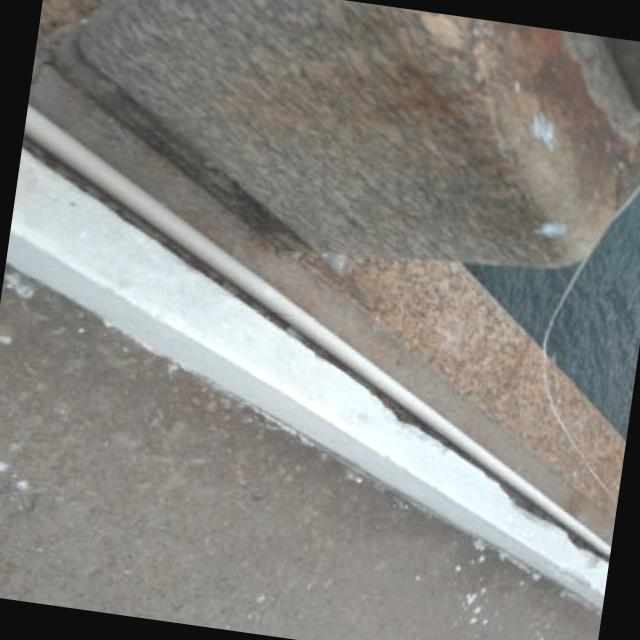gas: (24, 103, 611, 561)
